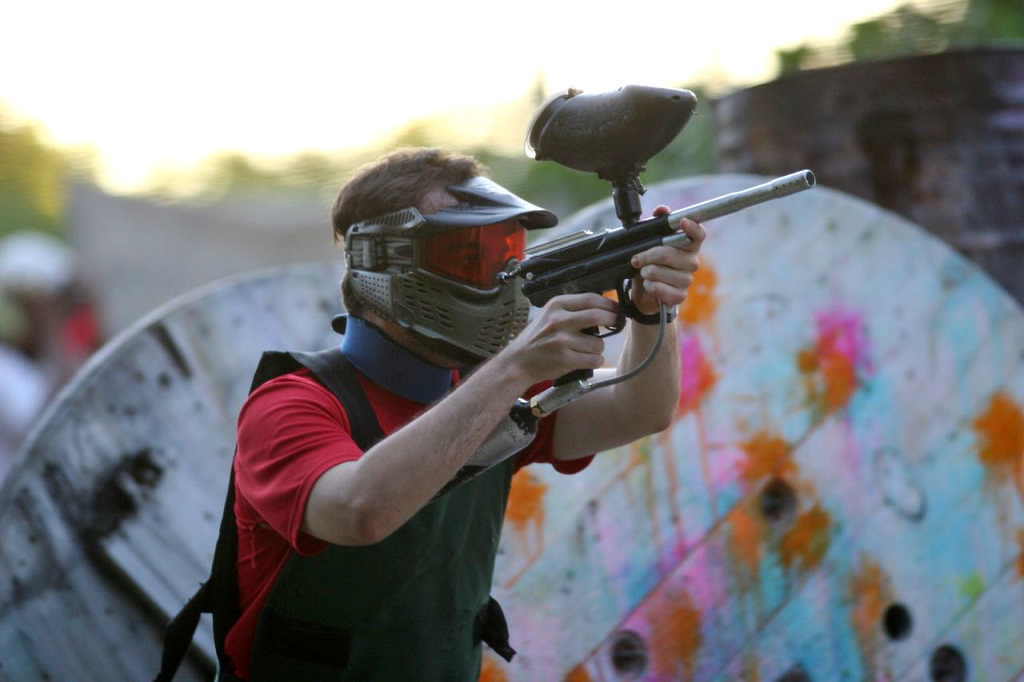Person: (223, 144, 706, 682)
